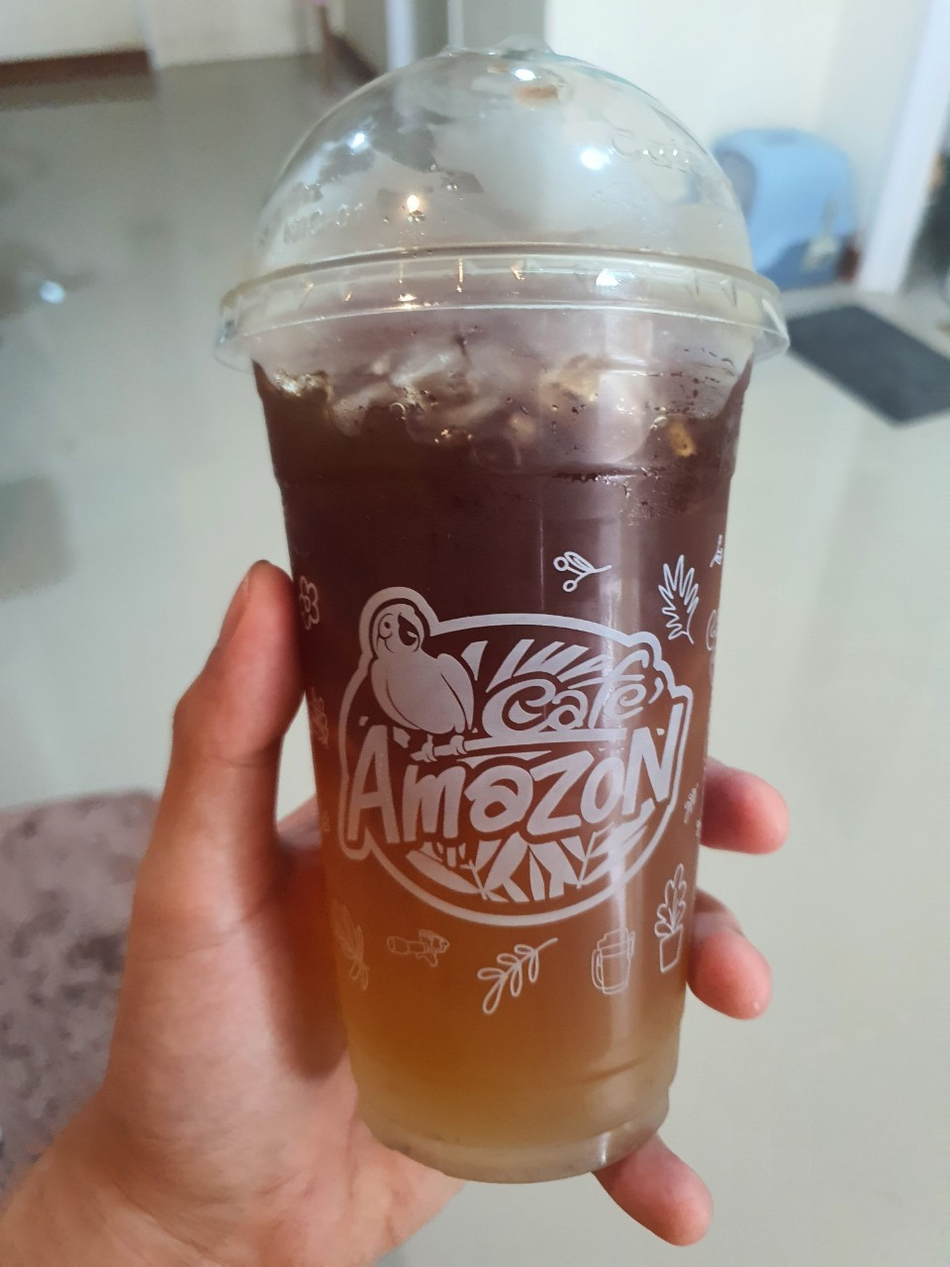plastic: (214, 37, 800, 1202)
